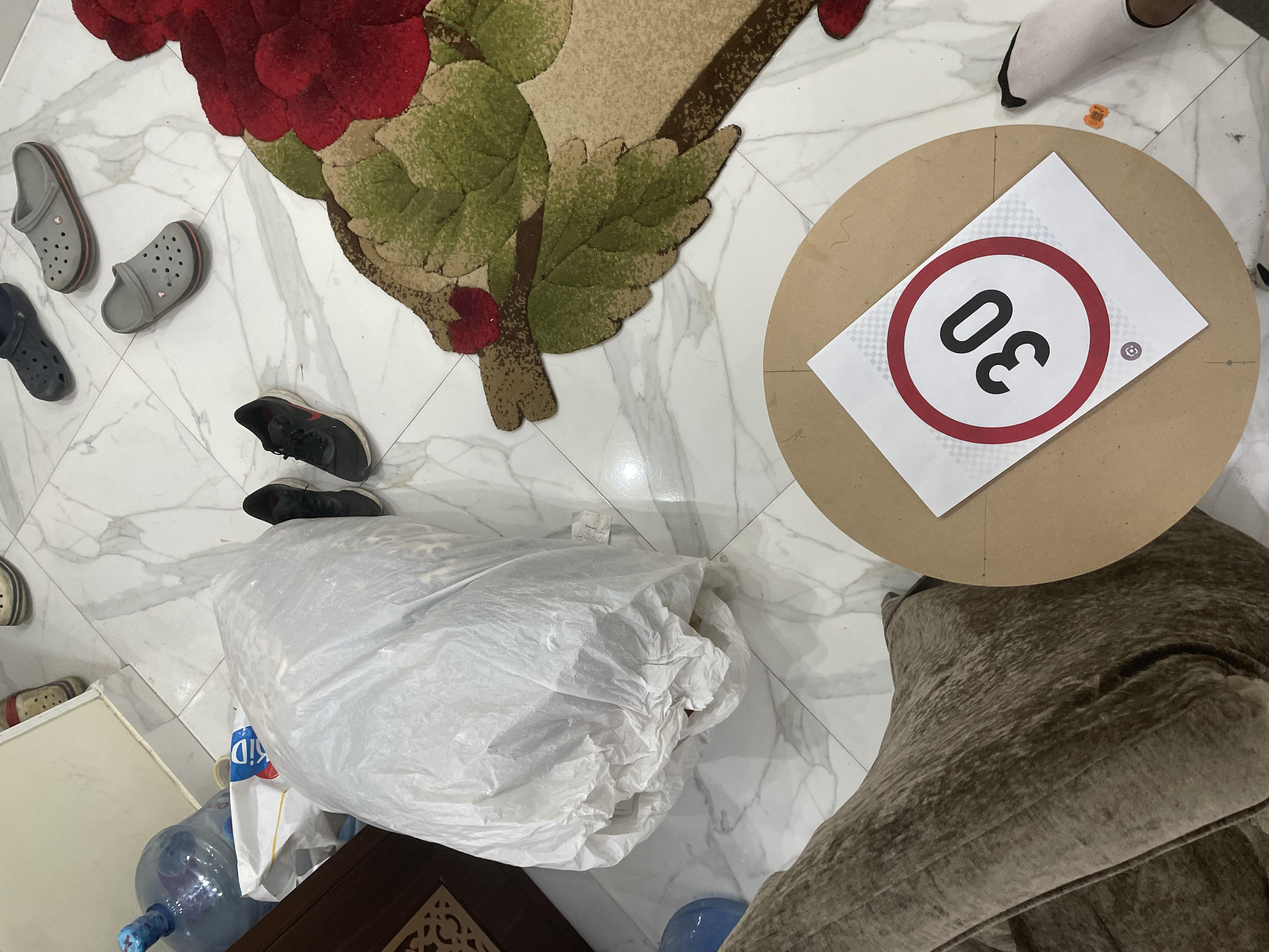30-speed: (681, 664, 955, 829)
